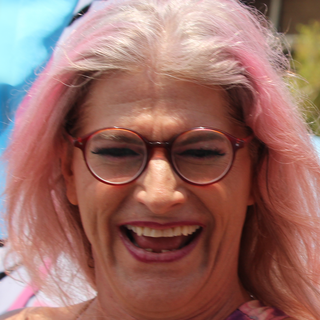eye: (88, 141, 140, 169), (176, 145, 228, 165)
